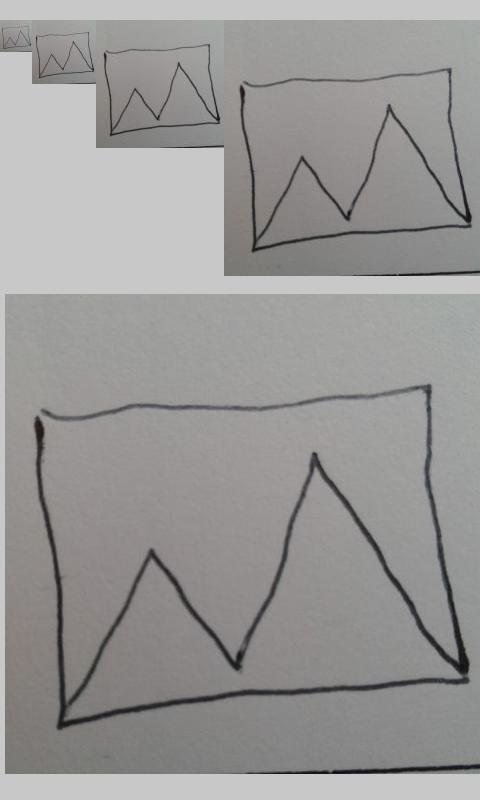image_view: (35, 384, 470, 728), (234, 63, 473, 255), (100, 39, 220, 137), (35, 32, 94, 79), (1, 25, 32, 50)
